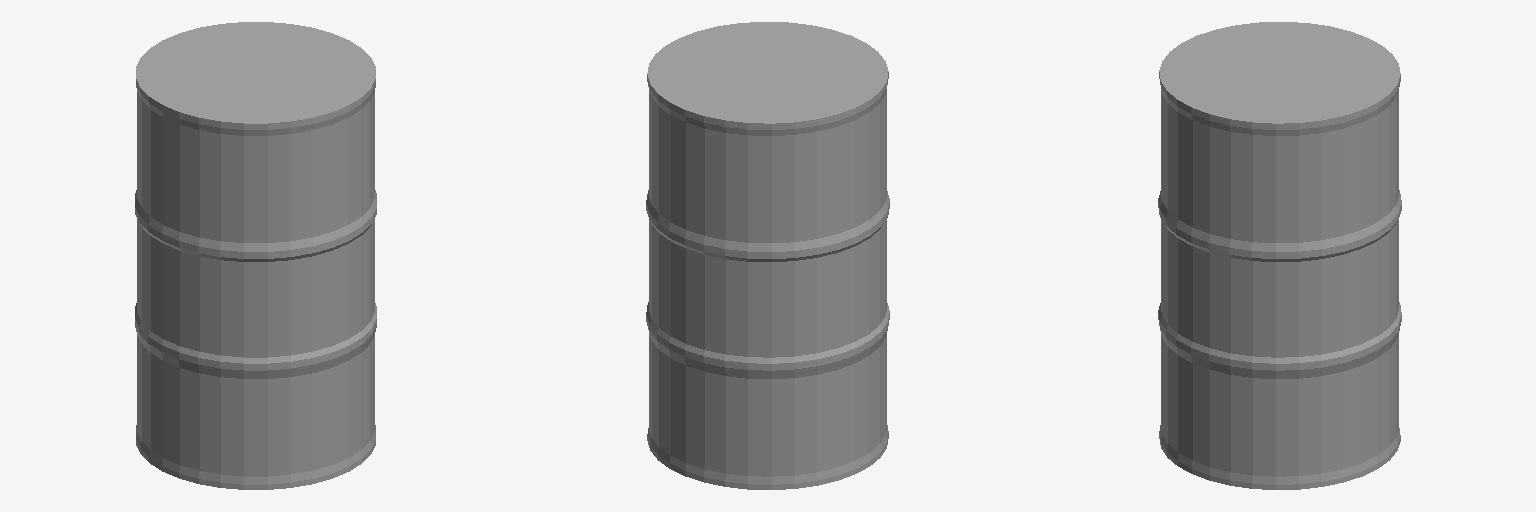
Rendered from YIU9GYSZAN0DU9OFWL14RPMGO.obj.
3 views of the same model, side by side, from view 1: azimuth 30°, elevation 25°; view 2: azimuth 150°, elevation 25°; view 3: azimuth 270°, elevation 25° (orthographic).
Parts seen in each view (by area): view 1: Object_oil-drum_col.jpg; view 2: Object_oil-drum_col.jpg; view 3: Object_oil-drum_col.jpg.
Part boxes in pixels (left/top/right/bottom): Object_oil-drum_col.jpg: left=135, top=22, right=376, bottom=489; Object_oil-drum_col.jpg: left=646, top=22, right=889, bottom=489; Object_oil-drum_col.jpg: left=1158, top=22, right=1401, bottom=489.
Bounding box in the file's own units: 1.51 × 2.5 × 1.51.